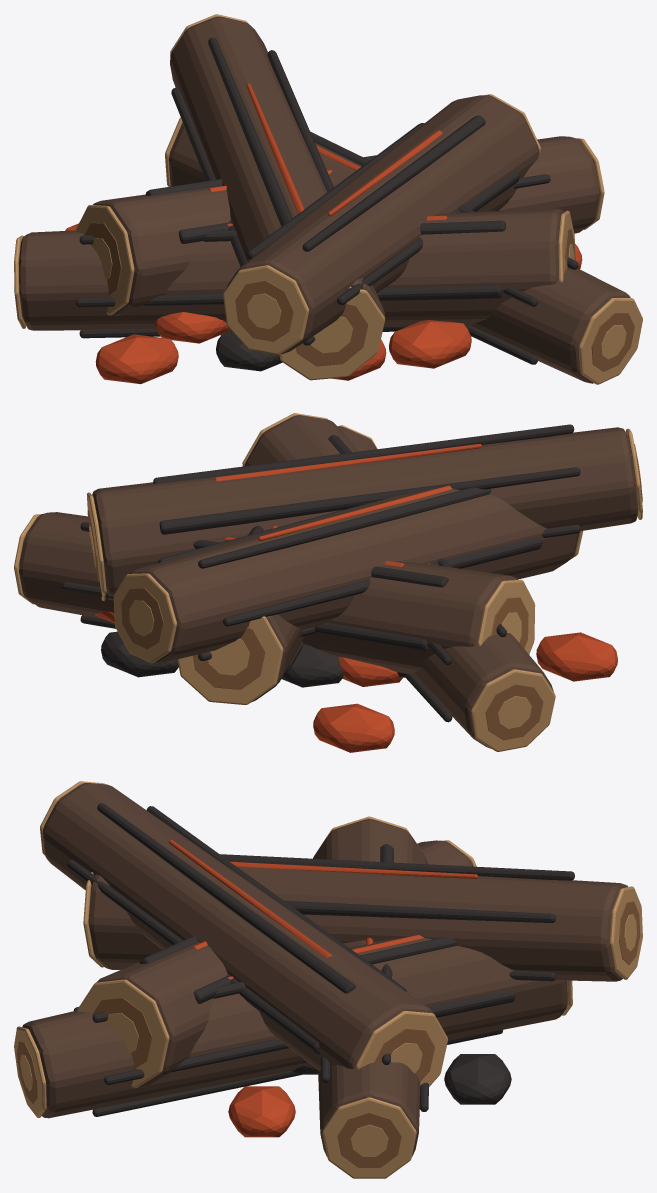
Rendered from campfire_logs.glb.
3 renders of one model, top to bottom at view 1: azimuth 30°, elevation 25°; view 2: azimuth 150°, elevation 25°; view 3: azimuth 270°, elevation 25°, orthographic.
Visible parts, largest first — view 1: Split_Log_0, Coal_00, Cut_End, Coal_01, Heart_Ring; view 2: Split_Log_0, Coal_00, Cut_End, Coal_01, Heart_Ring; view 3: Split_Log_0, Coal_00, Cut_End, Coal_01, Heart_Ring.
Part boxes in pixels (x1,y1,x2,y2): Split_Log_0: [19, 16, 630, 383]; Coal_00: [75, 37, 578, 371]; Cut_End: [14, 14, 642, 384]; Coal_01: [65, 83, 582, 384]; Heart_Ring: [85, 222, 634, 371]; Split_Log_0: [19, 415, 638, 748]; Coal_00: [62, 424, 580, 722]; Cut_End: [14, 413, 642, 751]; Coal_01: [95, 444, 617, 752]; Heart_Ring: [87, 444, 642, 740]; Split_Log_0: [22, 783, 627, 1156]; Coal_00: [67, 803, 574, 1137]; Cut_End: [14, 781, 642, 1178]; Coal_01: [168, 839, 477, 1137]; Heart_Ring: [16, 901, 640, 1167].
Bounding box in the file's own units: 1.98 × 0.6311 × 1.96.
